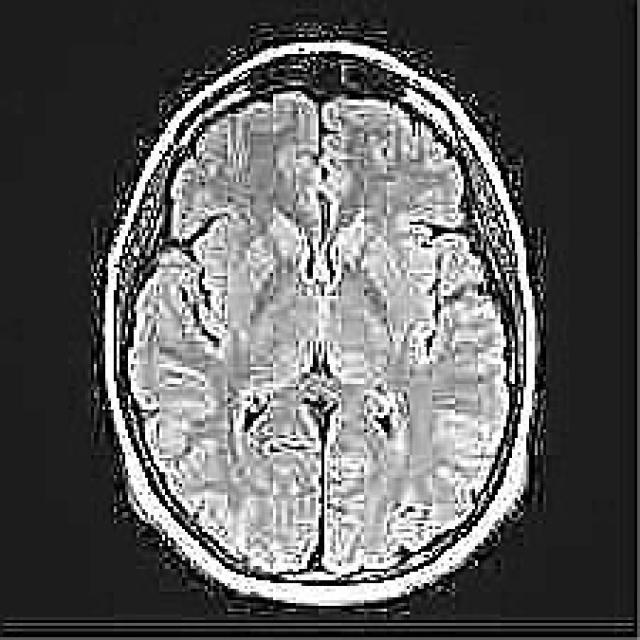notumor: (100, 43, 538, 609)
